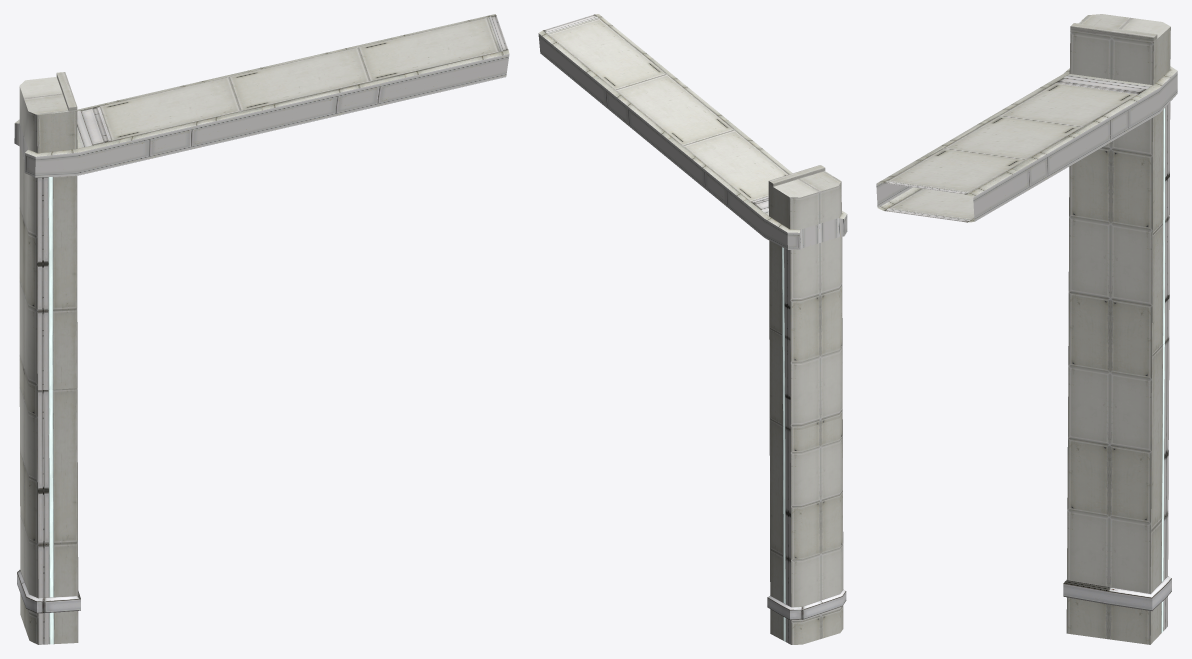
The model's file is STA20_groundbeam.FBX.
The picture shows the model from 3 angles, left to right: view 1: azimuth 30°, elevation 25°; view 2: azimuth 150°, elevation 25°; view 3: azimuth 270°, elevation 25°; orthographic projection. The views are drawn at different scales.
Parts seen in each view (by area): view 1: STA20_groundbeam; view 2: STA20_groundbeam; view 3: STA20_groundbeam.
Part boxes in pixels (x1,y1,x2,y2): STA20_groundbeam: [14, 14, 509, 644]; STA20_groundbeam: [538, 14, 847, 644]; STA20_groundbeam: [876, 14, 1177, 644].
Size of the model in its own units: 16.5 by 21.57 by 9.12.
